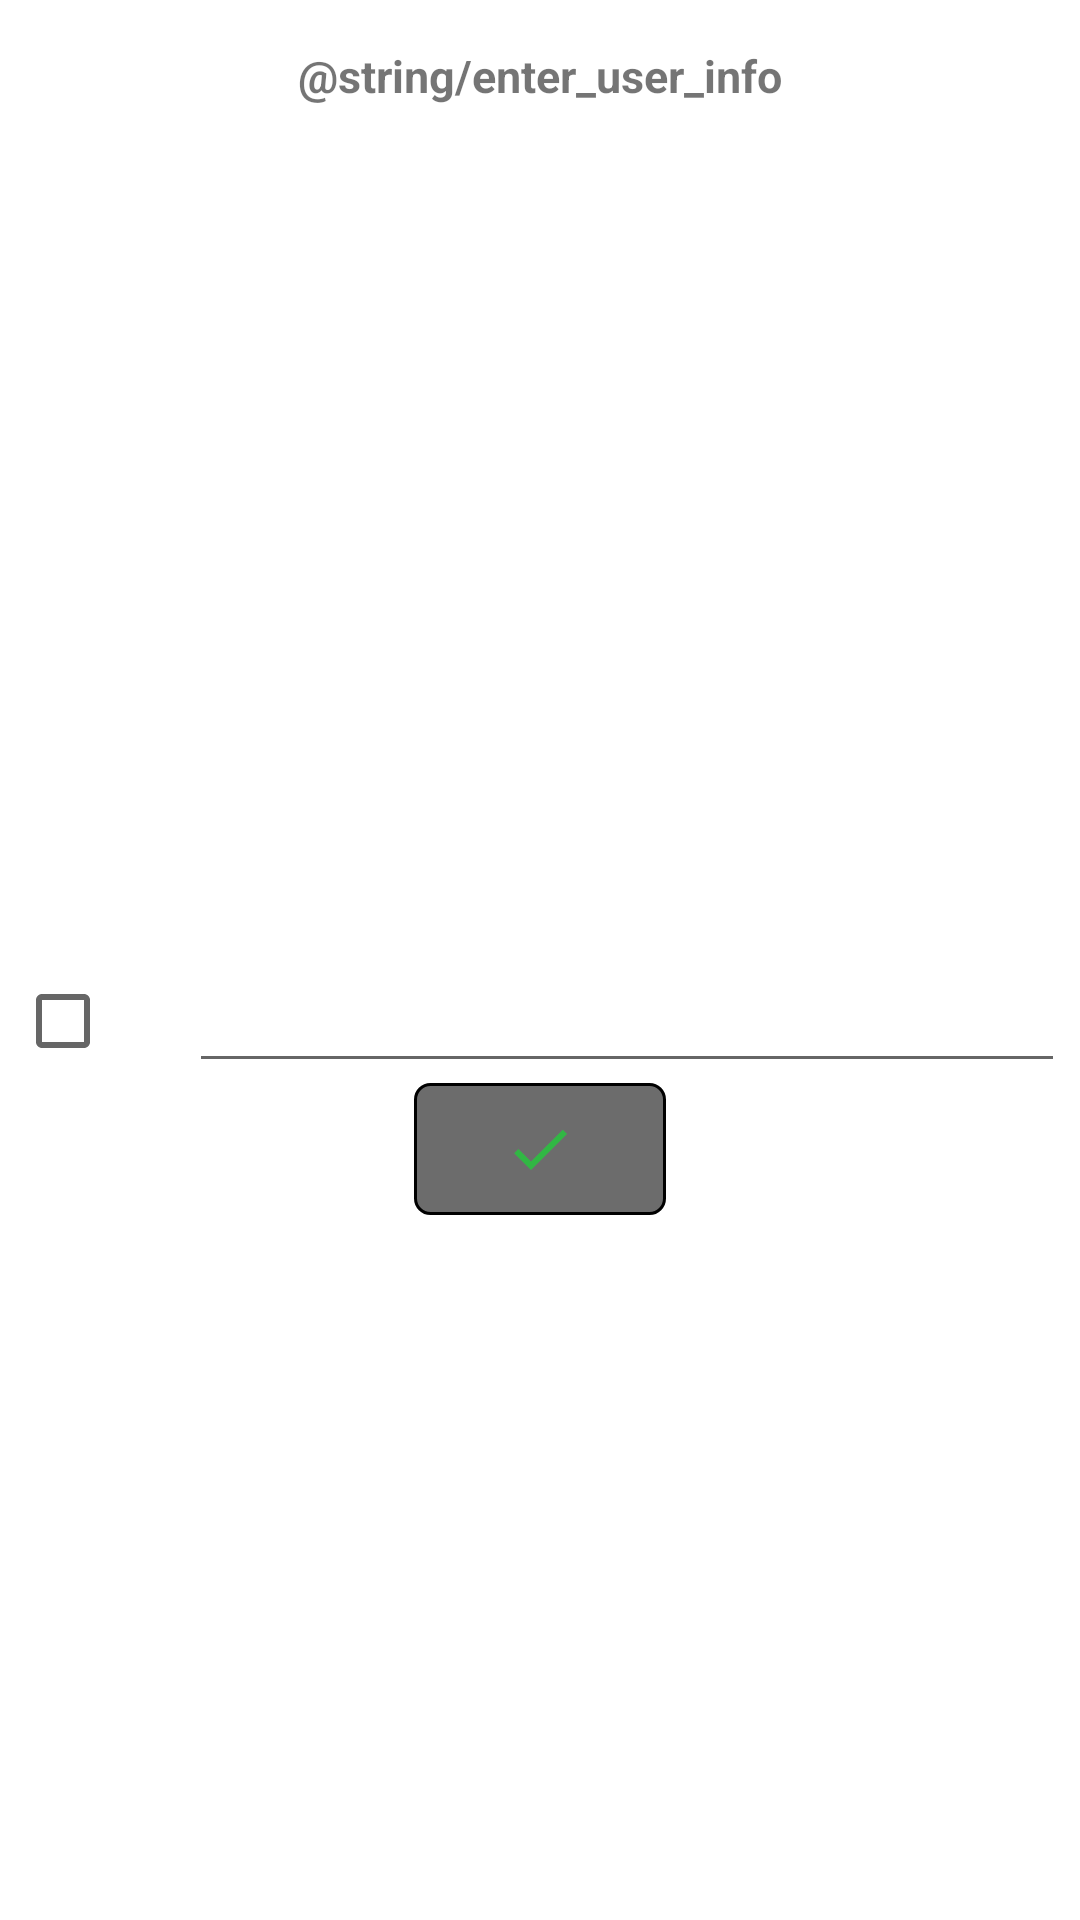

Named icons in this screenshot (1080 x 1920) and their centers, (x=x, y=y):
done: (x=540, y=1149)
